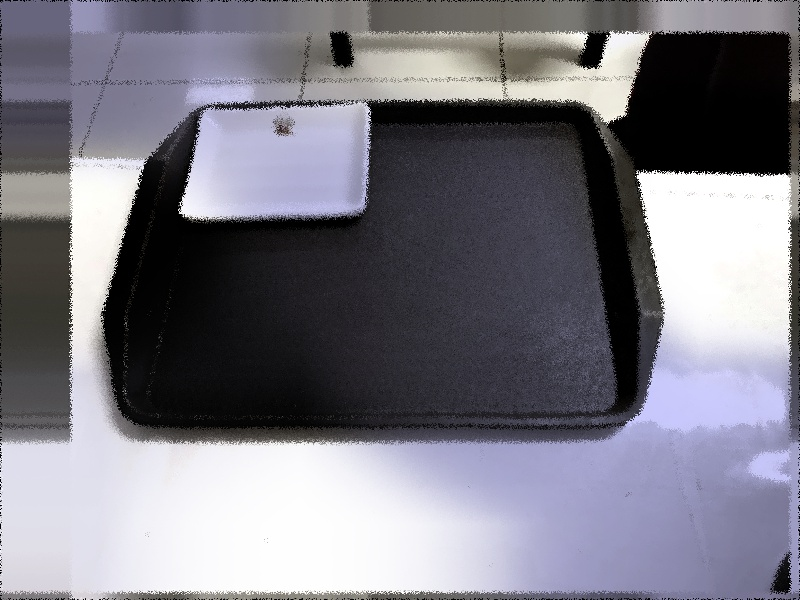dish4: (171, 97, 379, 230)
